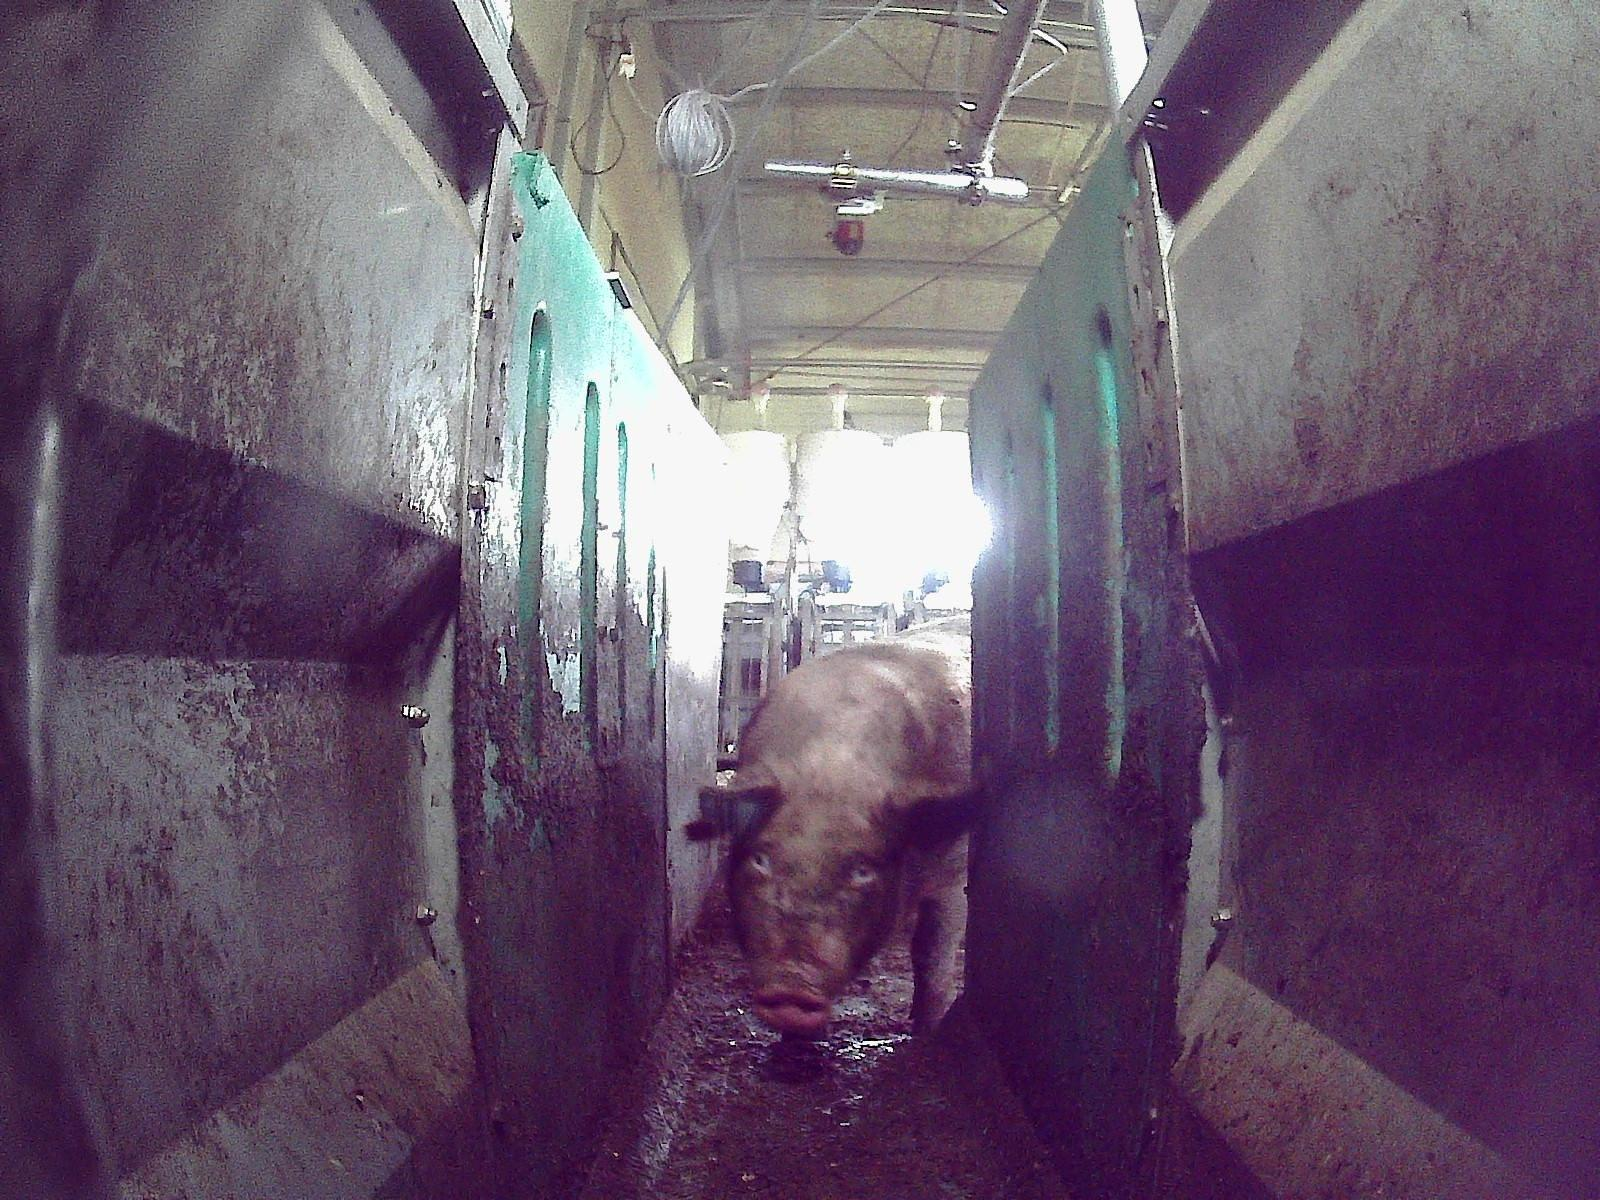Face: (726, 791, 897, 1029)
